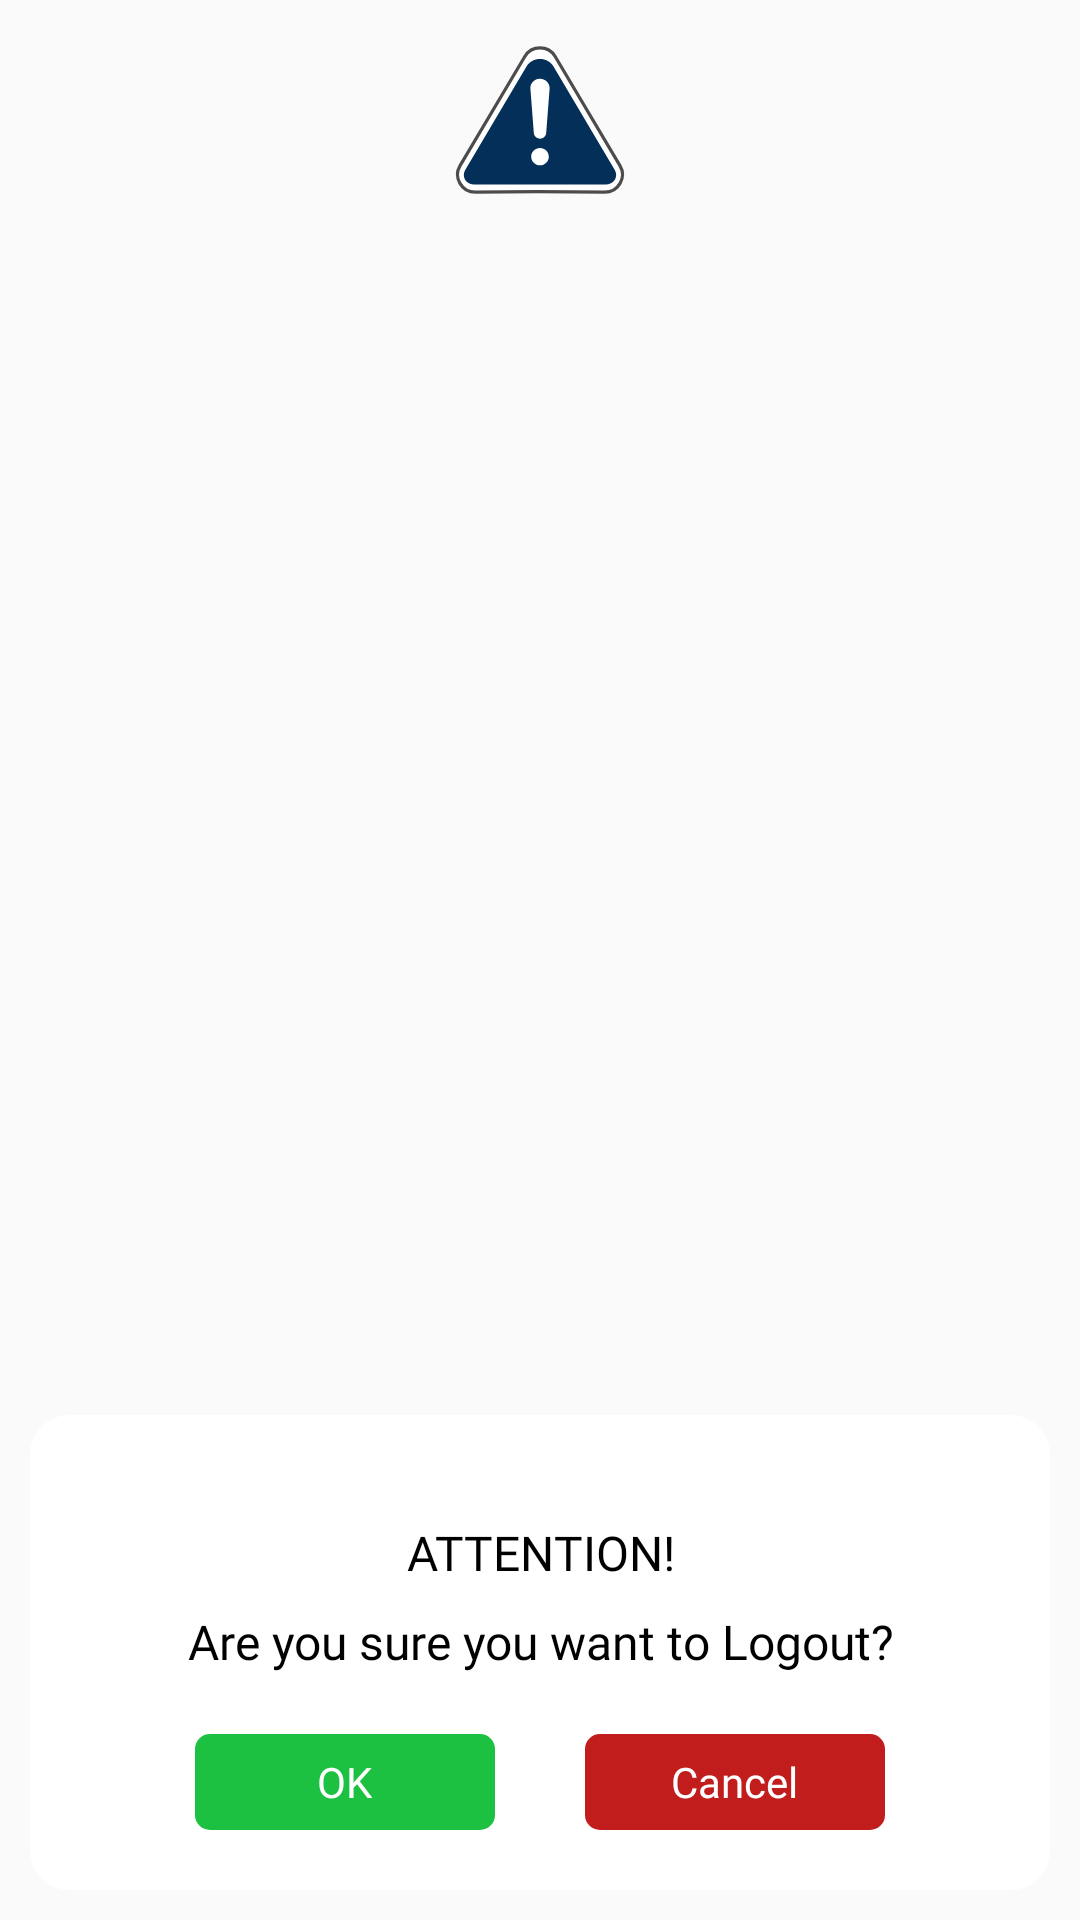

Icons on this 1080*1920 Android screen, each with its box as rect(x1, y1, x2, y2):
polygonattention: rect(456, 46, 624, 194)
